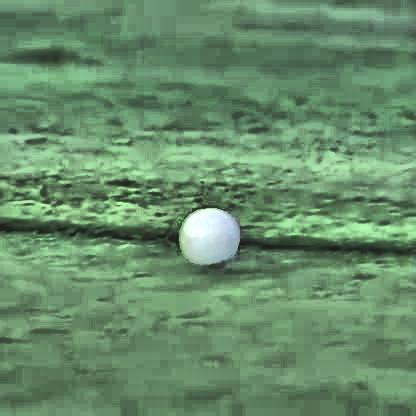golfball: (175, 206, 238, 268)
